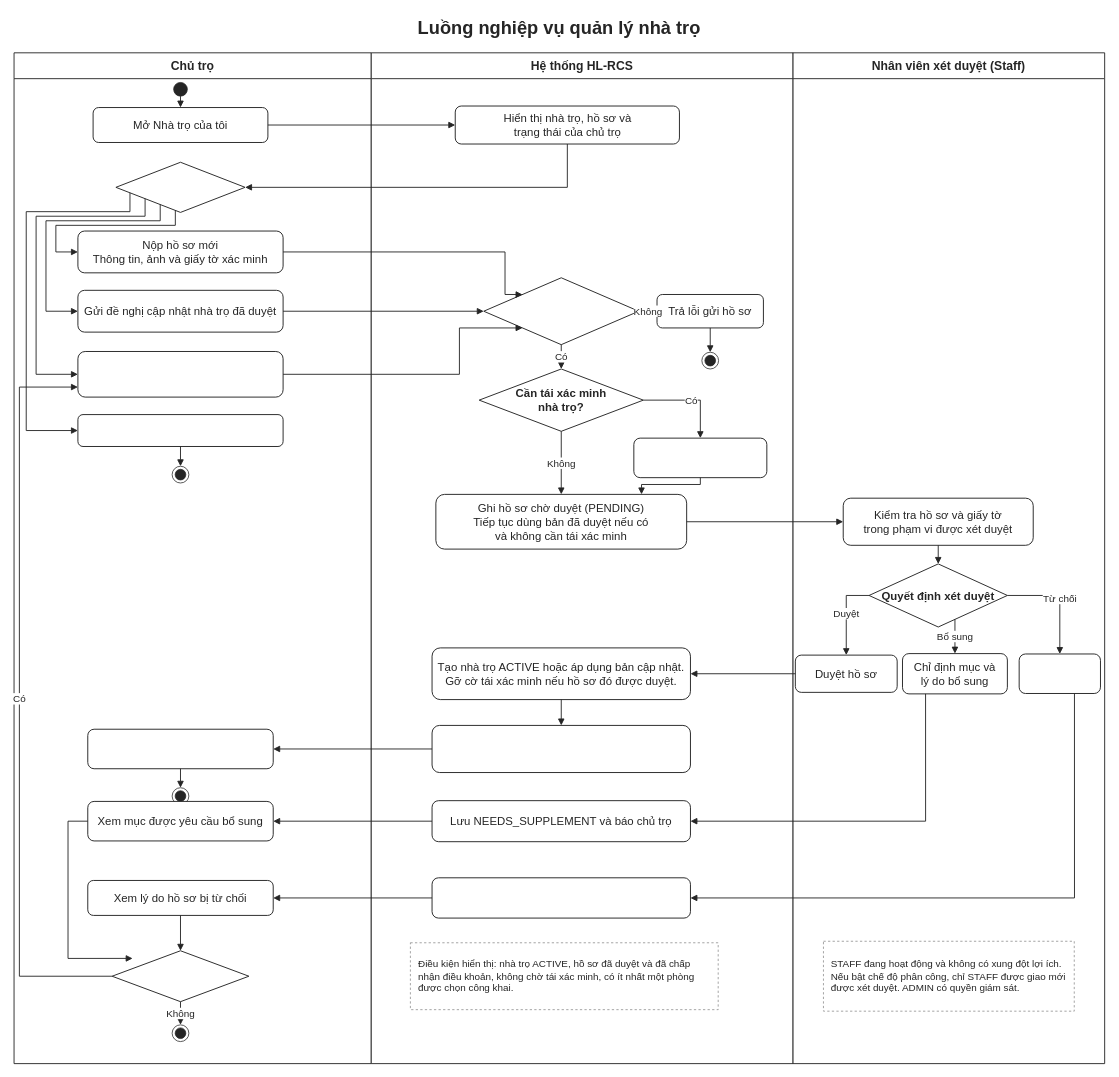
This 1119x1077 diagram has some shape labels left out. The shapes that lost their labels are listed below. From the top down, each one's centre as x and y in pixels, then its label:
At (x=180, y=187): "Nghiệp vụ nhà trọ".
At (x=561, y=311): "Hồ sơ gửi đi hợp lệ?".
At (x=180, y=374): "Chỉnh sửa và nộp lại hồ sơ Bổ sung theo mục được yêu cầu nếu có".
At (x=180, y=430): "Xem hồ sơ đang chờ xử lý".
At (x=700, y=457): "Tạm ẩn nhà trọ khỏi kênh công khai".
At (x=1059, y=673): "Từ chối kèm lý do".
At (x=180, y=748): "Xem nhà trọ đã được duyệt".
At (x=561, y=749): "Lưu APPROVED và báo chủ trọ. Hiển thị công khai nếu đủ điều kiện.".
At (x=561, y=897): "Lưu REJECTED và báo chủ trọ".
At (x=180, y=976): "Nộp lại hồ sơ?".
